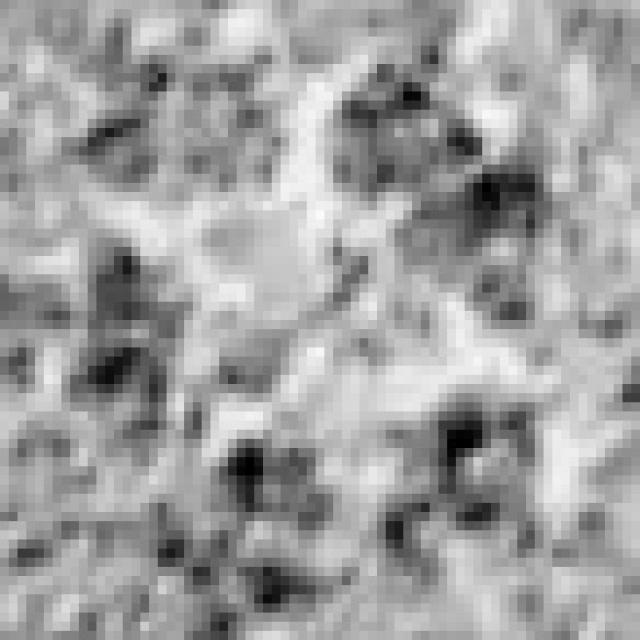inner: (203, 202, 456, 431)
lobe: (147, 433, 358, 640), (72, 55, 288, 210), (382, 392, 544, 595), (67, 244, 200, 472), (388, 160, 554, 338), (327, 63, 483, 199)
outer: (37, 27, 636, 640)
